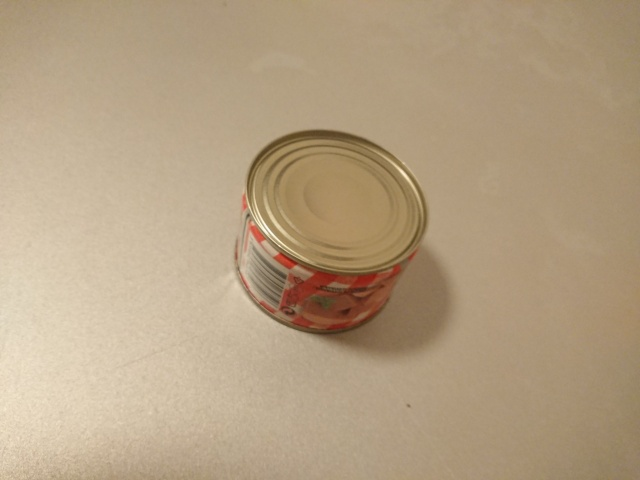Podravka Luncheon Meat 150g: (229, 125, 432, 338)
